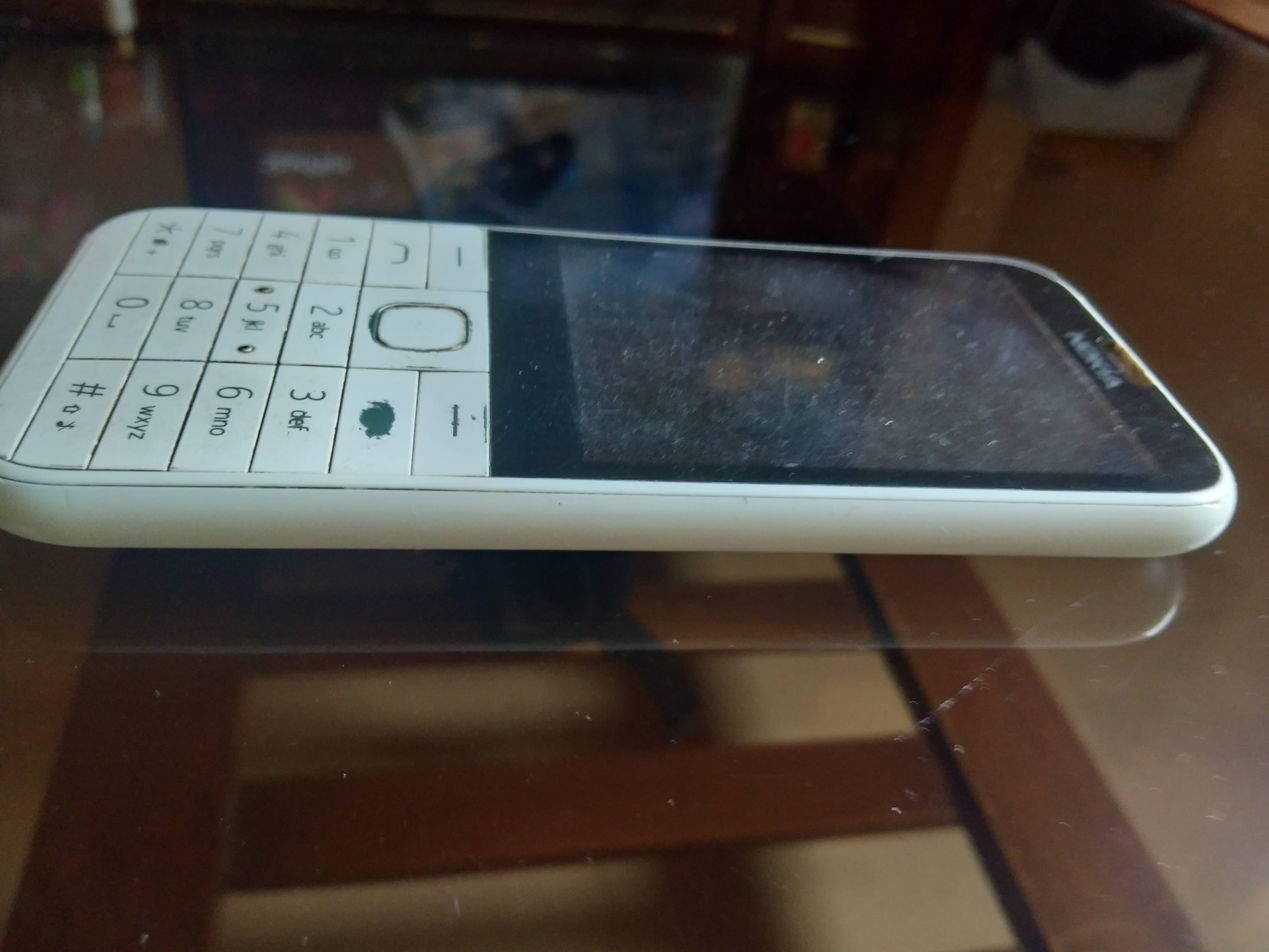Electronics: (3, 187, 1260, 597)
